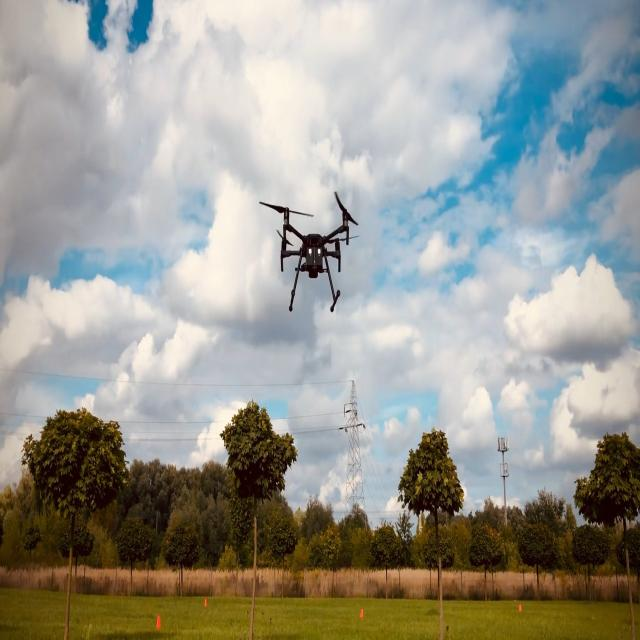drone: (258, 190, 360, 313)
